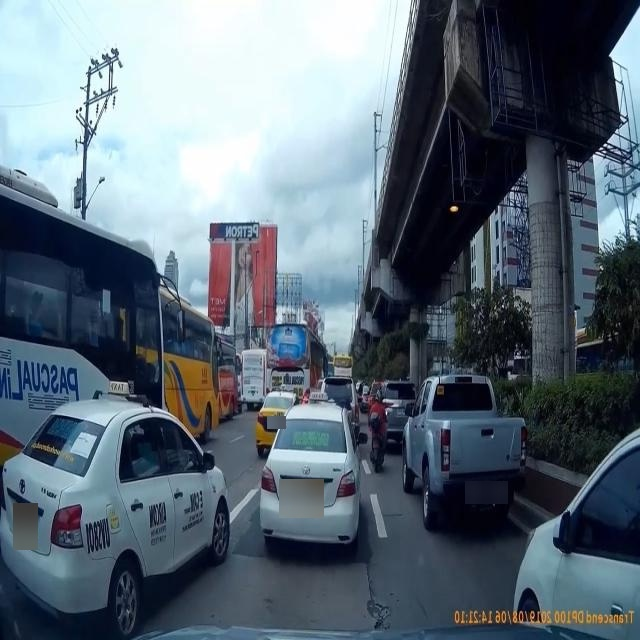bus: (0, 227, 163, 489), (133, 291, 229, 432), (263, 312, 333, 407), (234, 344, 282, 406)
car: (5, 388, 239, 628), (400, 366, 530, 540), (255, 394, 365, 558), (374, 373, 418, 443)
motorcycle: (365, 382, 387, 476)
